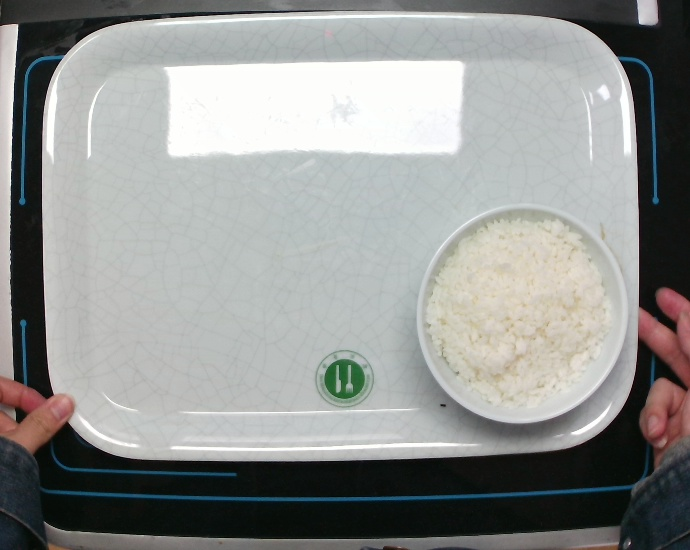JYsf-Fan_Wan: (414, 199, 630, 426)
